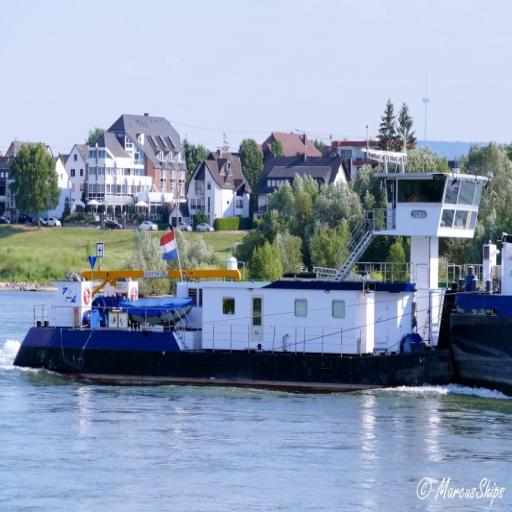tugboat: (12, 145, 492, 397)
